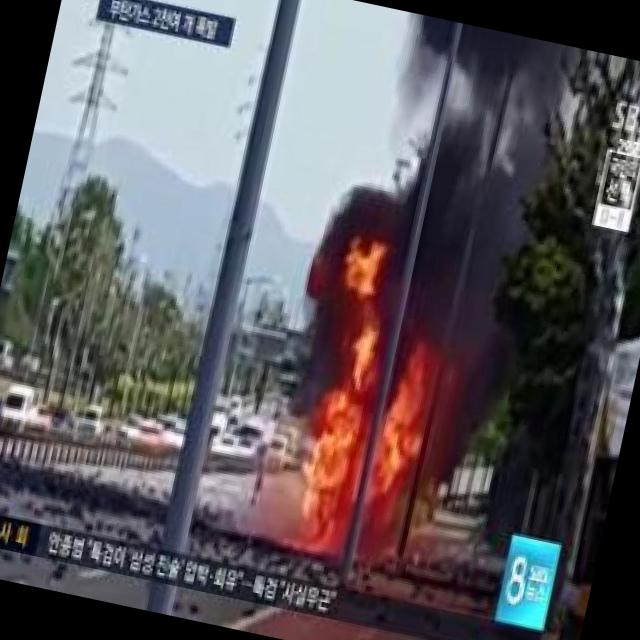Fire: (272, 197, 493, 578)
Smoke: (350, 14, 580, 372)
